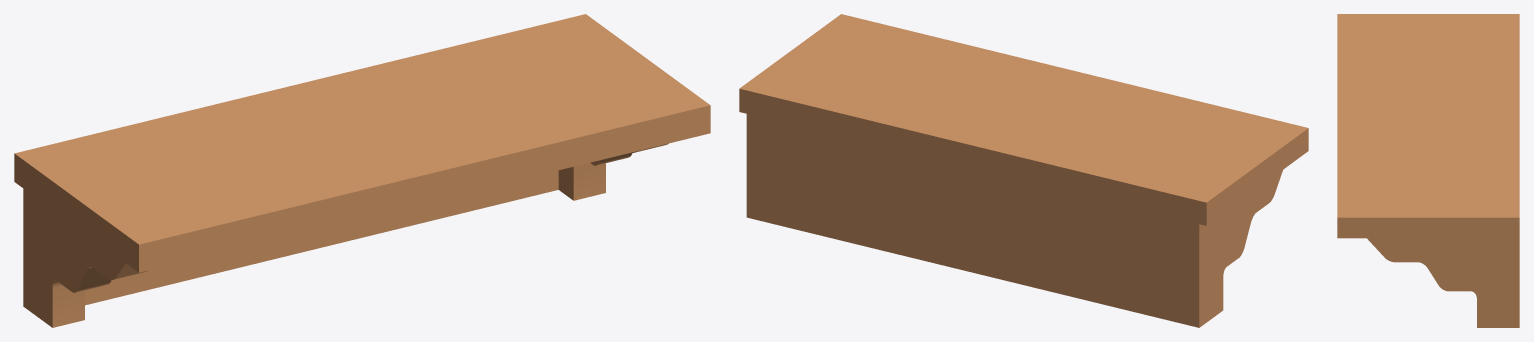
File: shelf.fbx
3 renders of one model, left to right at view 1: azimuth 30°, elevation 25°; view 2: azimuth 150°, elevation 25°; view 3: azimuth 270°, elevation 25°, orthographic. The views are drawn at different scales.
Parts seen in each view (by area): view 1: lower shelf; view 2: lower shelf; view 3: lower shelf.
Part boxes in pixels (x1,y1,x2,y2): lower shelf: (14, 14, 710, 327); lower shelf: (739, 14, 1308, 327); lower shelf: (1337, 14, 1519, 327).
Size of the model in its own units: 0.8636 by 0.2244 by 0.3264.
